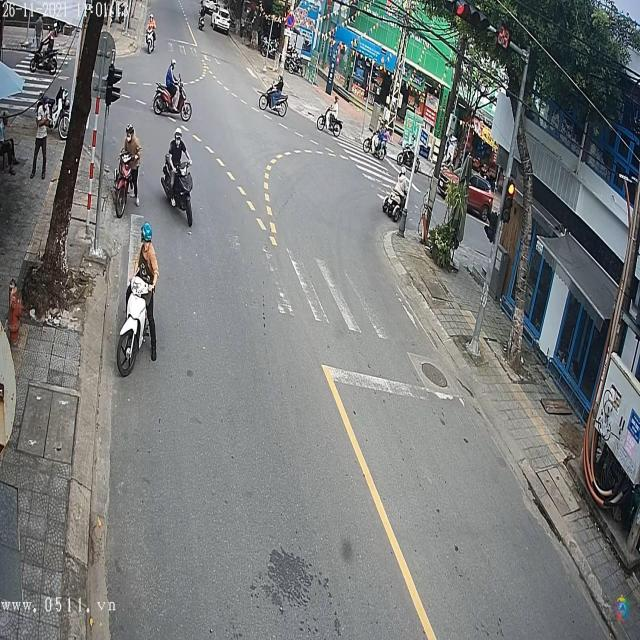motorcycle: (115, 268, 154, 380), (162, 134, 195, 228), (152, 78, 193, 120), (112, 147, 135, 218), (258, 87, 287, 117), (316, 109, 344, 136)
